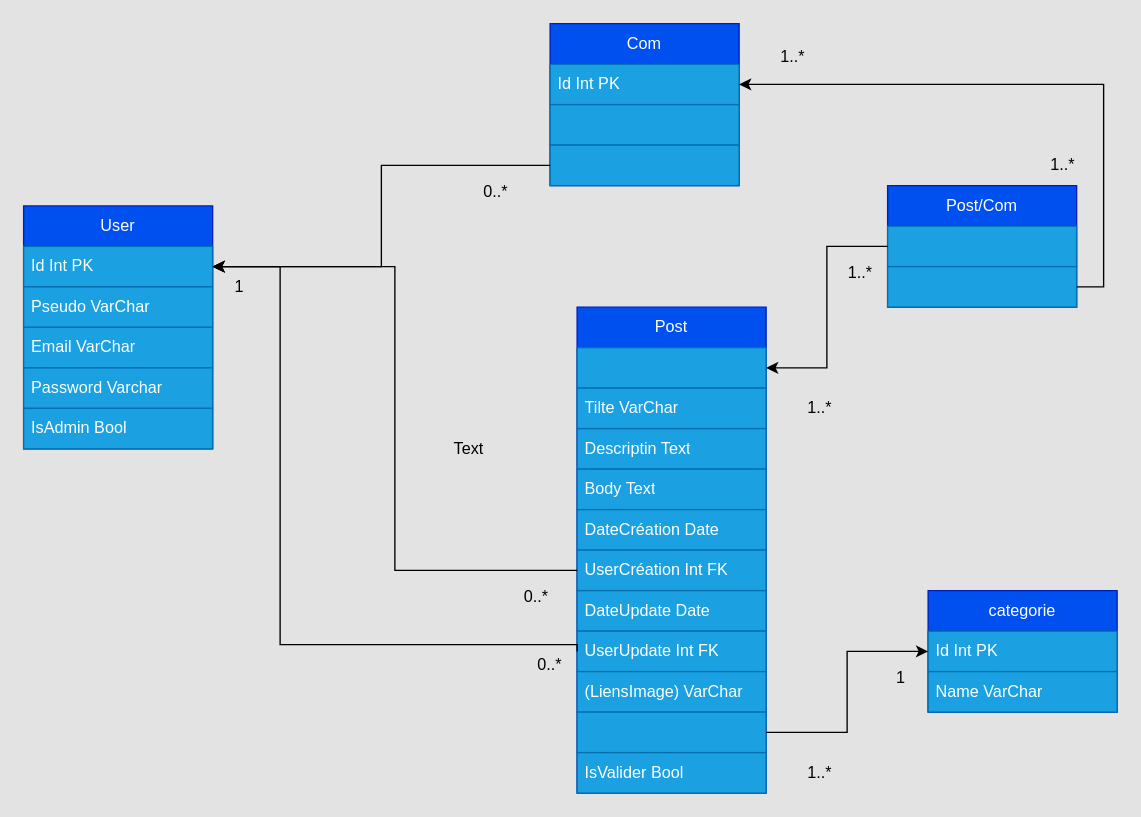
Image size: 1141x817. Some labels were removed from this diagram. The centre of each missing label's shape, as x and y in pixels:
"Catégorie Int FK" goes at point 671,732.
"CorpCom Text" goes at point 644,124.
"Id PK" goes at point 671,367.
"IdCom Int FK" goes at point 981,286.
"IdPost InT FK" goes at point 981,246.
"User Int FK" goes at point 644,165.
